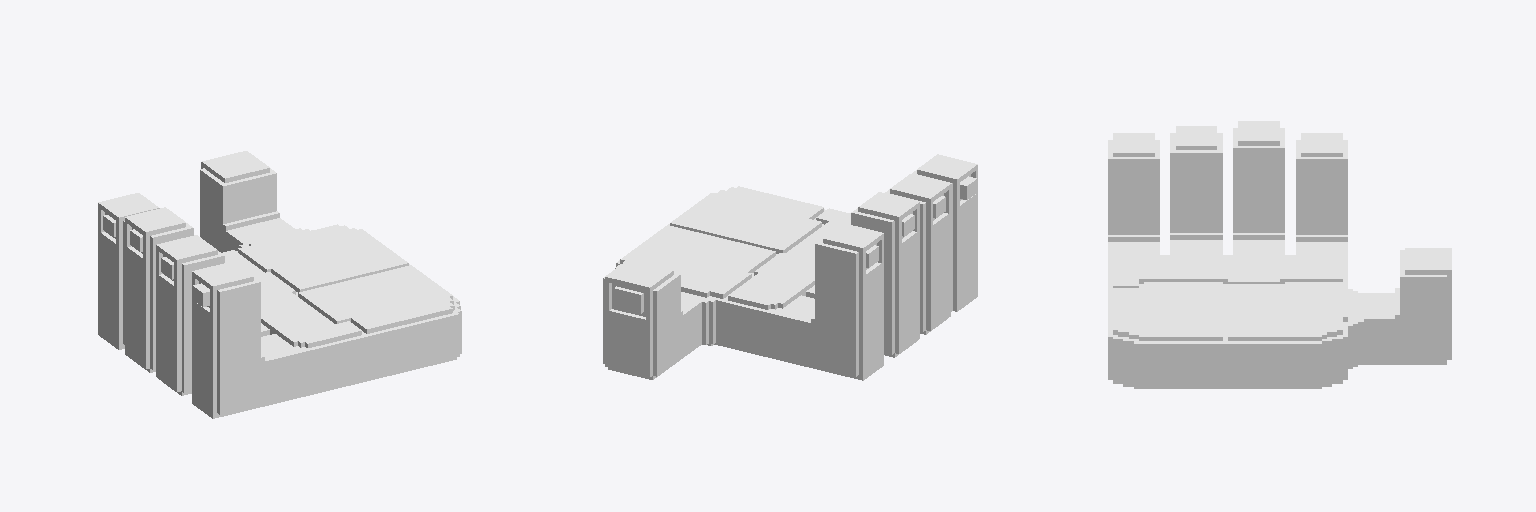
The model's file is Tlaloc-1-Tlaloc_RHand.obj.
3 renders of one model, left to right at view 1: azimuth 30°, elevation 25°; view 2: azimuth 150°, elevation 25°; view 3: azimuth 270°, elevation 25°, orthographic.
Visible parts, largest first — view 1: Tlaloc_RHand; view 2: Tlaloc_RHand; view 3: Tlaloc_RHand.
Boxes of the visible parts, x1=… form: Tlaloc_RHand: x1=98, y1=151, x2=461, y2=418; Tlaloc_RHand: x1=603, y1=154, x2=977, y2=380; Tlaloc_RHand: x1=1108, y1=121, x2=1451, y2=388.
Size of the model in its own units: 5.8 by 3 by 6.6.